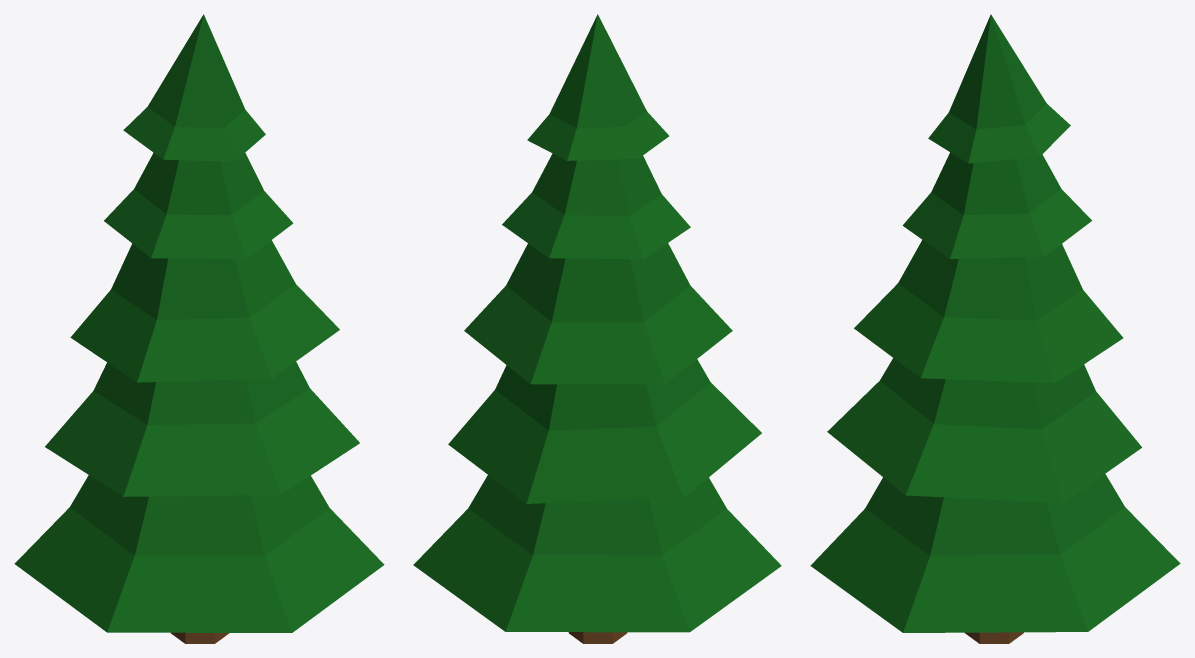
File: kesa_kuusi1.fbx
3 views of the same model, side by side, from view 1: azimuth 30°, elevation 25°; view 2: azimuth 150°, elevation 25°; view 3: azimuth 270°, elevation 25° (orthographic).
Parts seen in each view (by area): view 1: Cone; view 2: Cone, Cylinder; view 3: Cone, Cylinder.
Boxes of the visible parts, x1=… form: Cone: x1=14, y1=14, x2=384, y2=632; Cone: x1=413, y1=14, x2=781, y2=632; Cylinder: x1=568, y1=632, x2=627, y2=643; Cone: x1=810, y1=14, x2=1180, y2=632; Cylinder: x1=965, y1=632, x2=1023, y2=643.
Bounding box in the file's own units: 543 × 1159 × 627.
